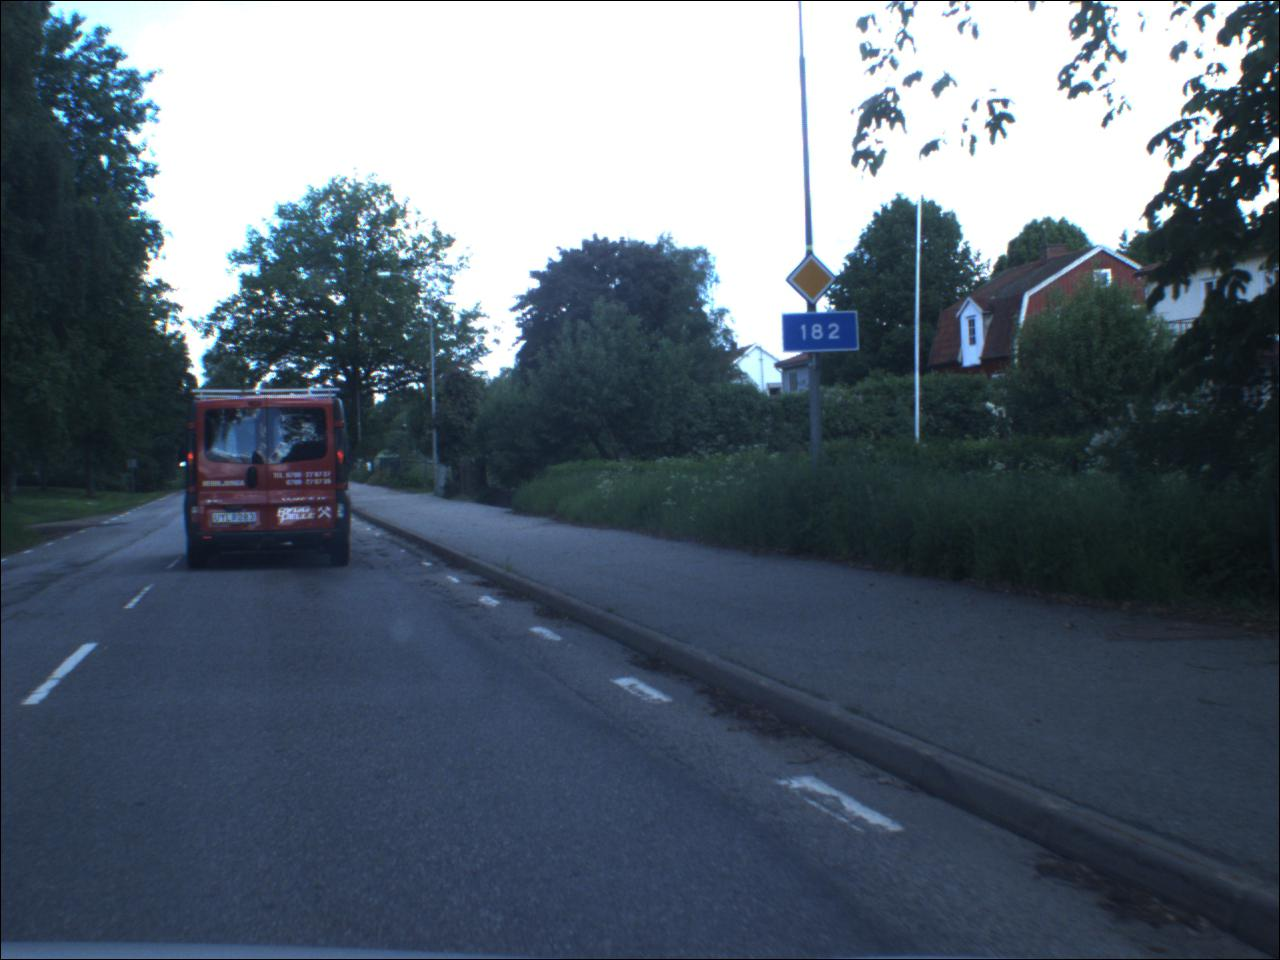PRIORITY_ROAD: (787, 254, 840, 308)
